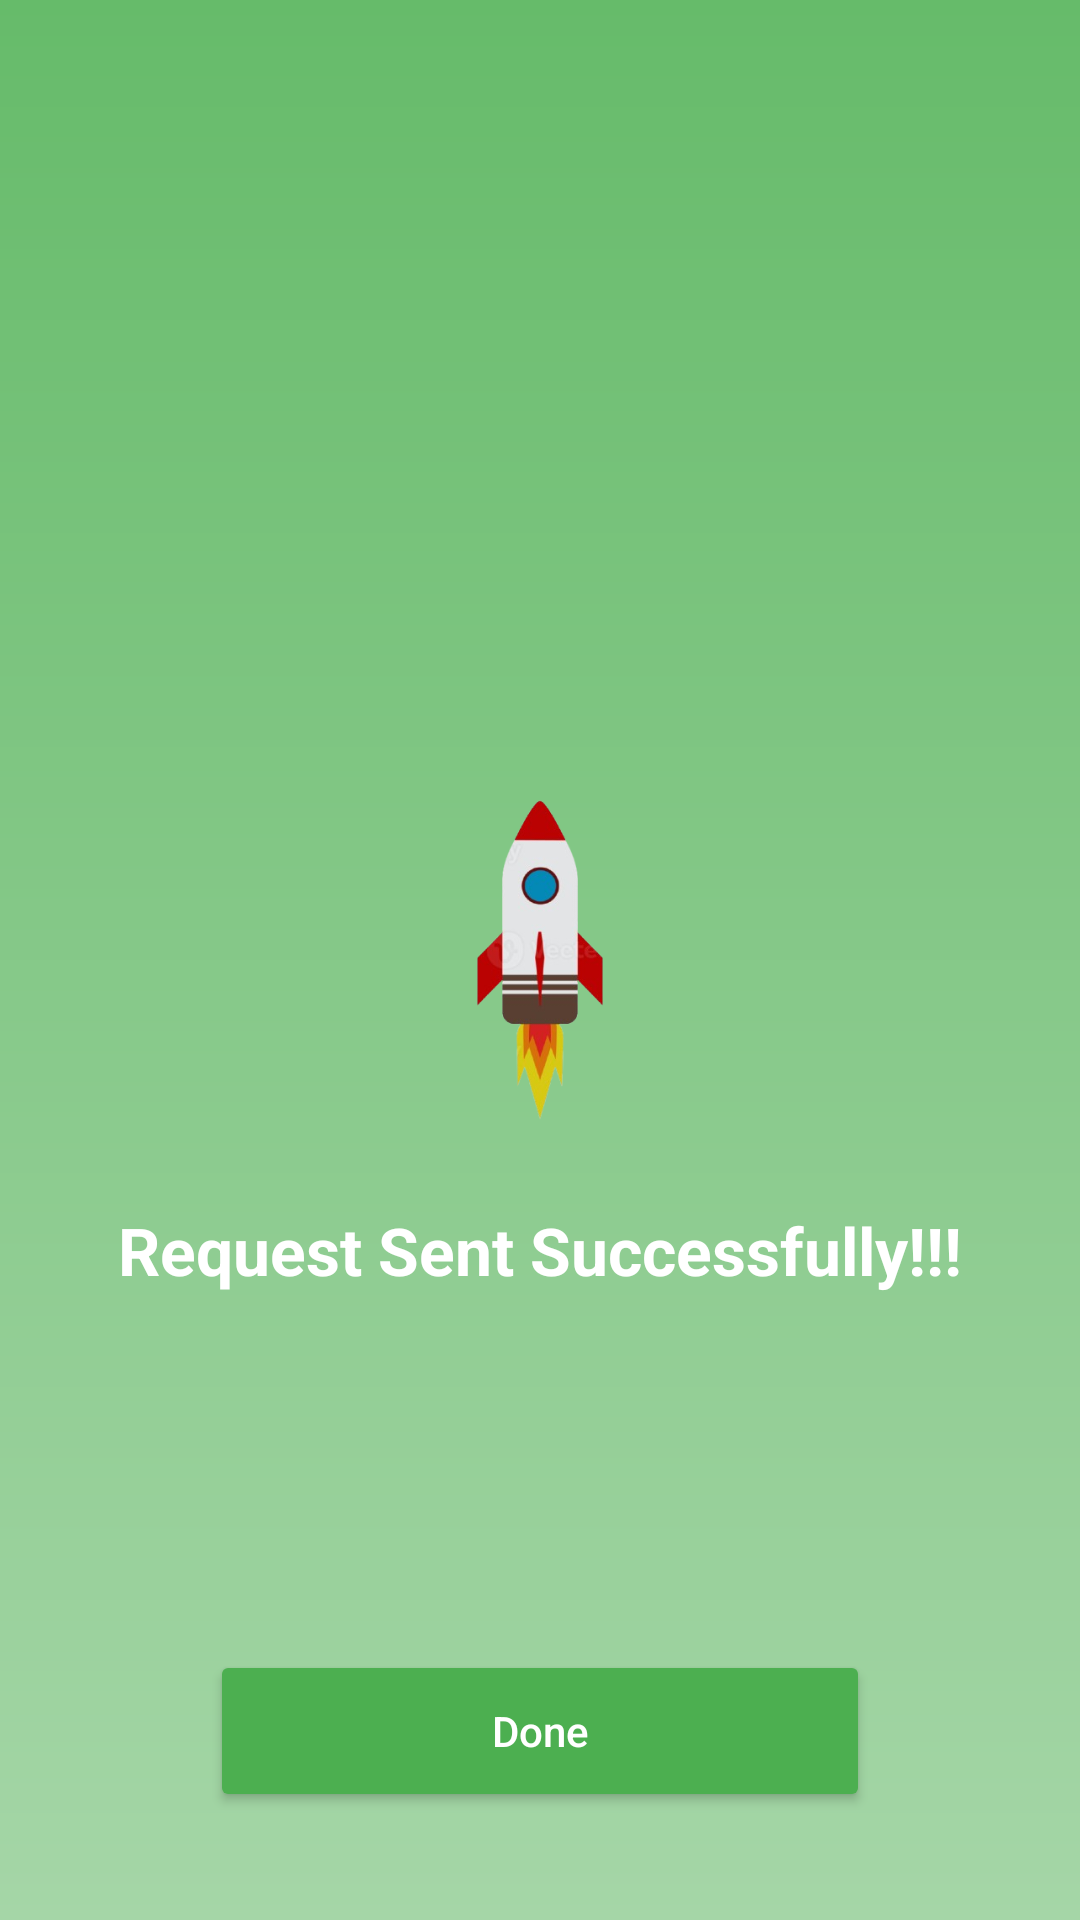

Named icons in this screenshot (1080*1920) and their bounding boxes, box=[x1, y1, x2, y2]:
rocket success: box=[477, 800, 603, 1118]
